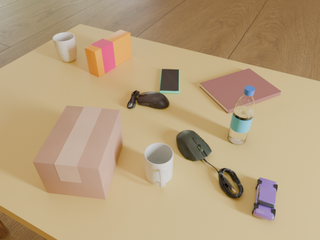book: (200, 68, 281, 113)
bottle: (228, 86, 255, 144)
box: (33, 106, 124, 199), (85, 30, 132, 77)
cup: (144, 143, 173, 187), (53, 33, 77, 62)
mouse: (176, 130, 212, 162), (127, 90, 169, 109)
phone: (159, 69, 180, 93)
toy_car: (252, 177, 278, 221)
